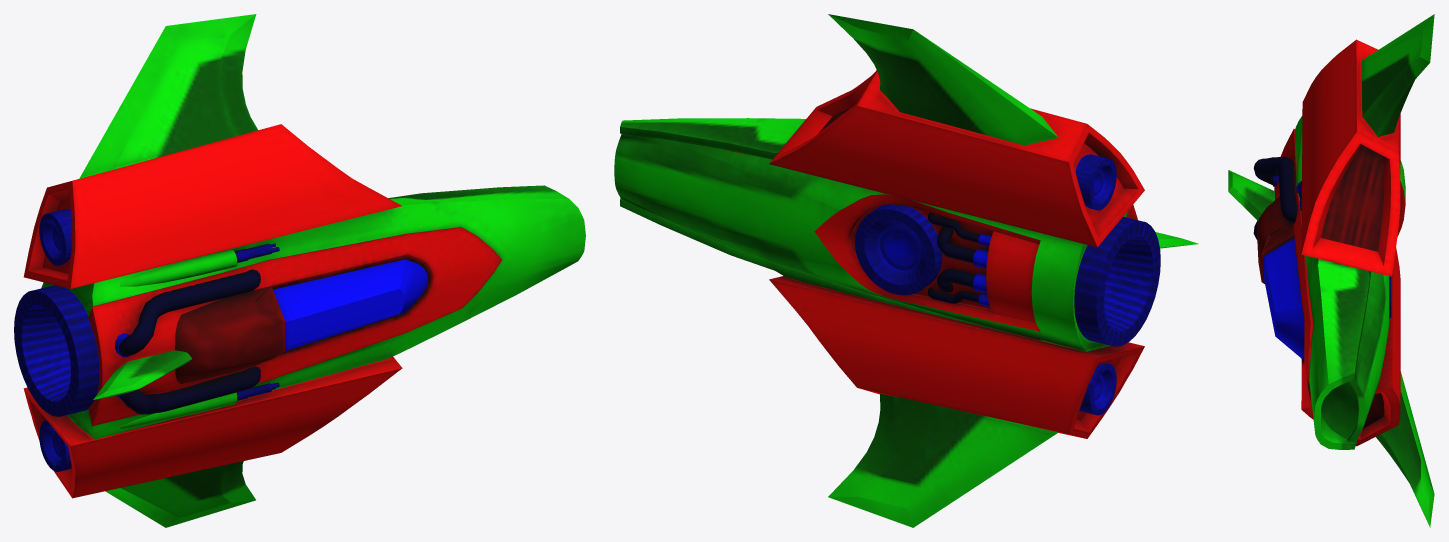
File: glider.gltf
3 renders of one model, left to right at view 1: azimuth 30°, elevation 25°; view 2: azimuth 150°, elevation 25°; view 3: azimuth 270°, elevation 25°, orthographic. The views are drawn at different scales.
Parts seen in each view (by area): view 1: Nave1_High_03 - Default Slot #2_0, Nave1_High_03 - Default Slot #3_0, Nave1_High_03 - Default Slot #1_0; view 2: Nave1_High_03 - Default Slot #2_0, Nave1_High_03 - Default Slot #3_0, Nave1_High_03 - Default Slot #1_0; view 3: Nave1_High_03 - Default Slot #2_0, Nave1_High_03 - Default Slot #3_0, Nave1_High_03 - Default Slot #1_0.
Part boxes in pixels (x1,y1,x2,y2): Nave1_High_03 - Default Slot #2_0: (23, 124, 501, 498); Nave1_High_03 - Default Slot #3_0: (41, 14, 585, 527); Nave1_High_03 - Default Slot #1_0: (14, 209, 427, 471); Nave1_High_03 - Default Slot #2_0: (726, 70, 1144, 438); Nave1_High_03 - Default Slot #3_0: (614, 14, 1198, 527); Nave1_High_03 - Default Slot #1_0: (855, 154, 1160, 415); Nave1_High_03 - Default Slot #2_0: (1257, 39, 1405, 446); Nave1_High_03 - Default Slot #3_0: (1228, 14, 1434, 527); Nave1_High_03 - Default Slot #1_0: (1253, 157, 1391, 358).
Bounding box in the file's own units: 2 × 1.78 × 0.693.
Materials: 3 (3 with a texture image).
